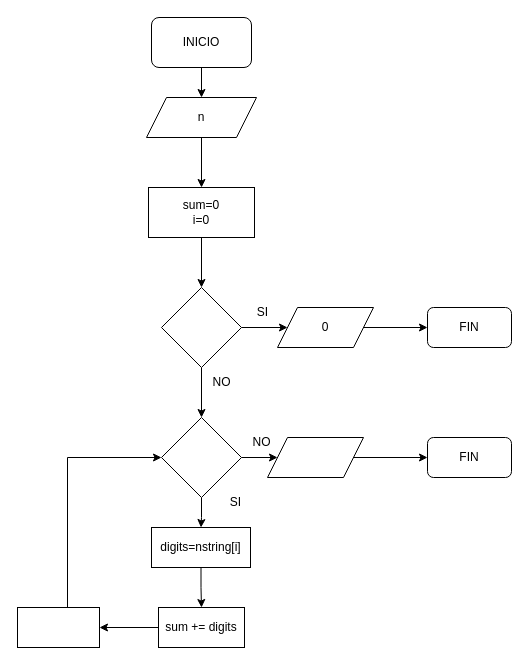
Image size: 529x665. Some labels were removed from this diagram. The box of each missing label's shape, as (x1, y1, x2, y2) in pixels:
++i: (16, 606, 100, 648)
i<n.size: (160, 416, 242, 498)
n<=0 ?: (160, 286, 242, 368)
sum: (266, 436, 364, 478)
